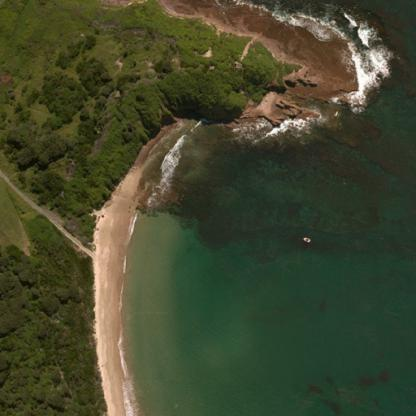ship: (302, 237, 310, 242)
